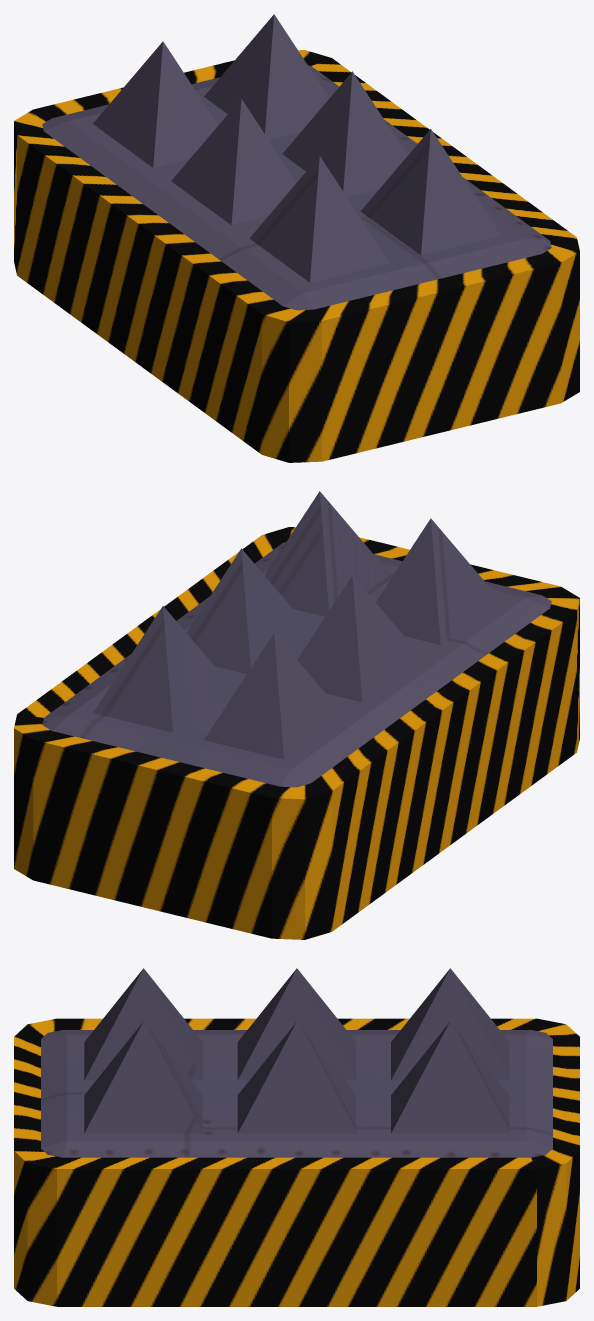
Rendered from Spike_Platform.glb.
The picture shows the model from 3 angles, top to bottom: view 1: azimuth 30°, elevation 25°; view 2: azimuth 150°, elevation 25°; view 3: azimuth 270°, elevation 25°; orthographic projection. The views are drawn at different scales.
Visible parts, largest first — view 1: Spike_Platform; view 2: Spike_Platform; view 3: Spike_Platform.
Part boxes in pixels (x1,y1,x2,y2): Spike_Platform: (14,14,579,462); Spike_Platform: (14,491,579,939); Spike_Platform: (14,968,579,1306).
Bounding box in the file's own units: 1.26 × 0.9238 × 2.
Materials: 1 (1 with a texture image).
